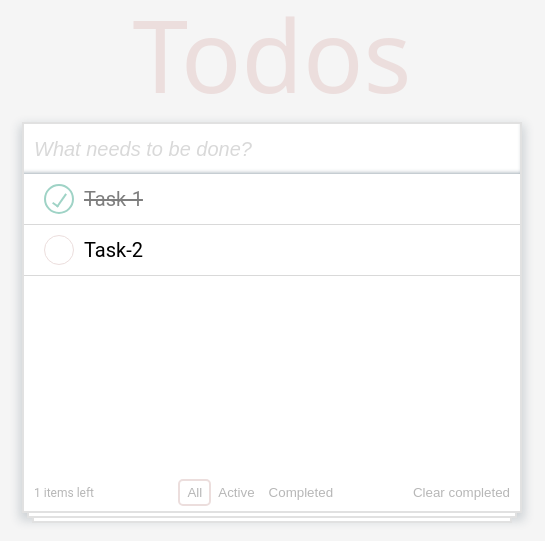
Test: TodoList › should clear completed tasks when the "Clear completed" button is clicked
The image size is (545, 541).
Click the button with test id "clear-completed" at (462, 492), box [413, 485, 510, 500]
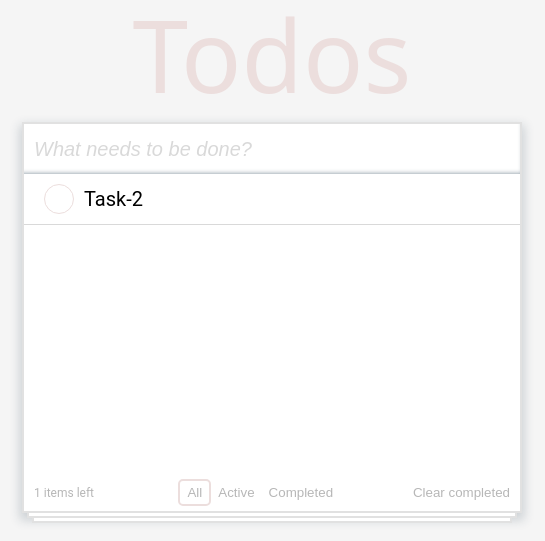
Now the text labelled "Task-1" is gone
